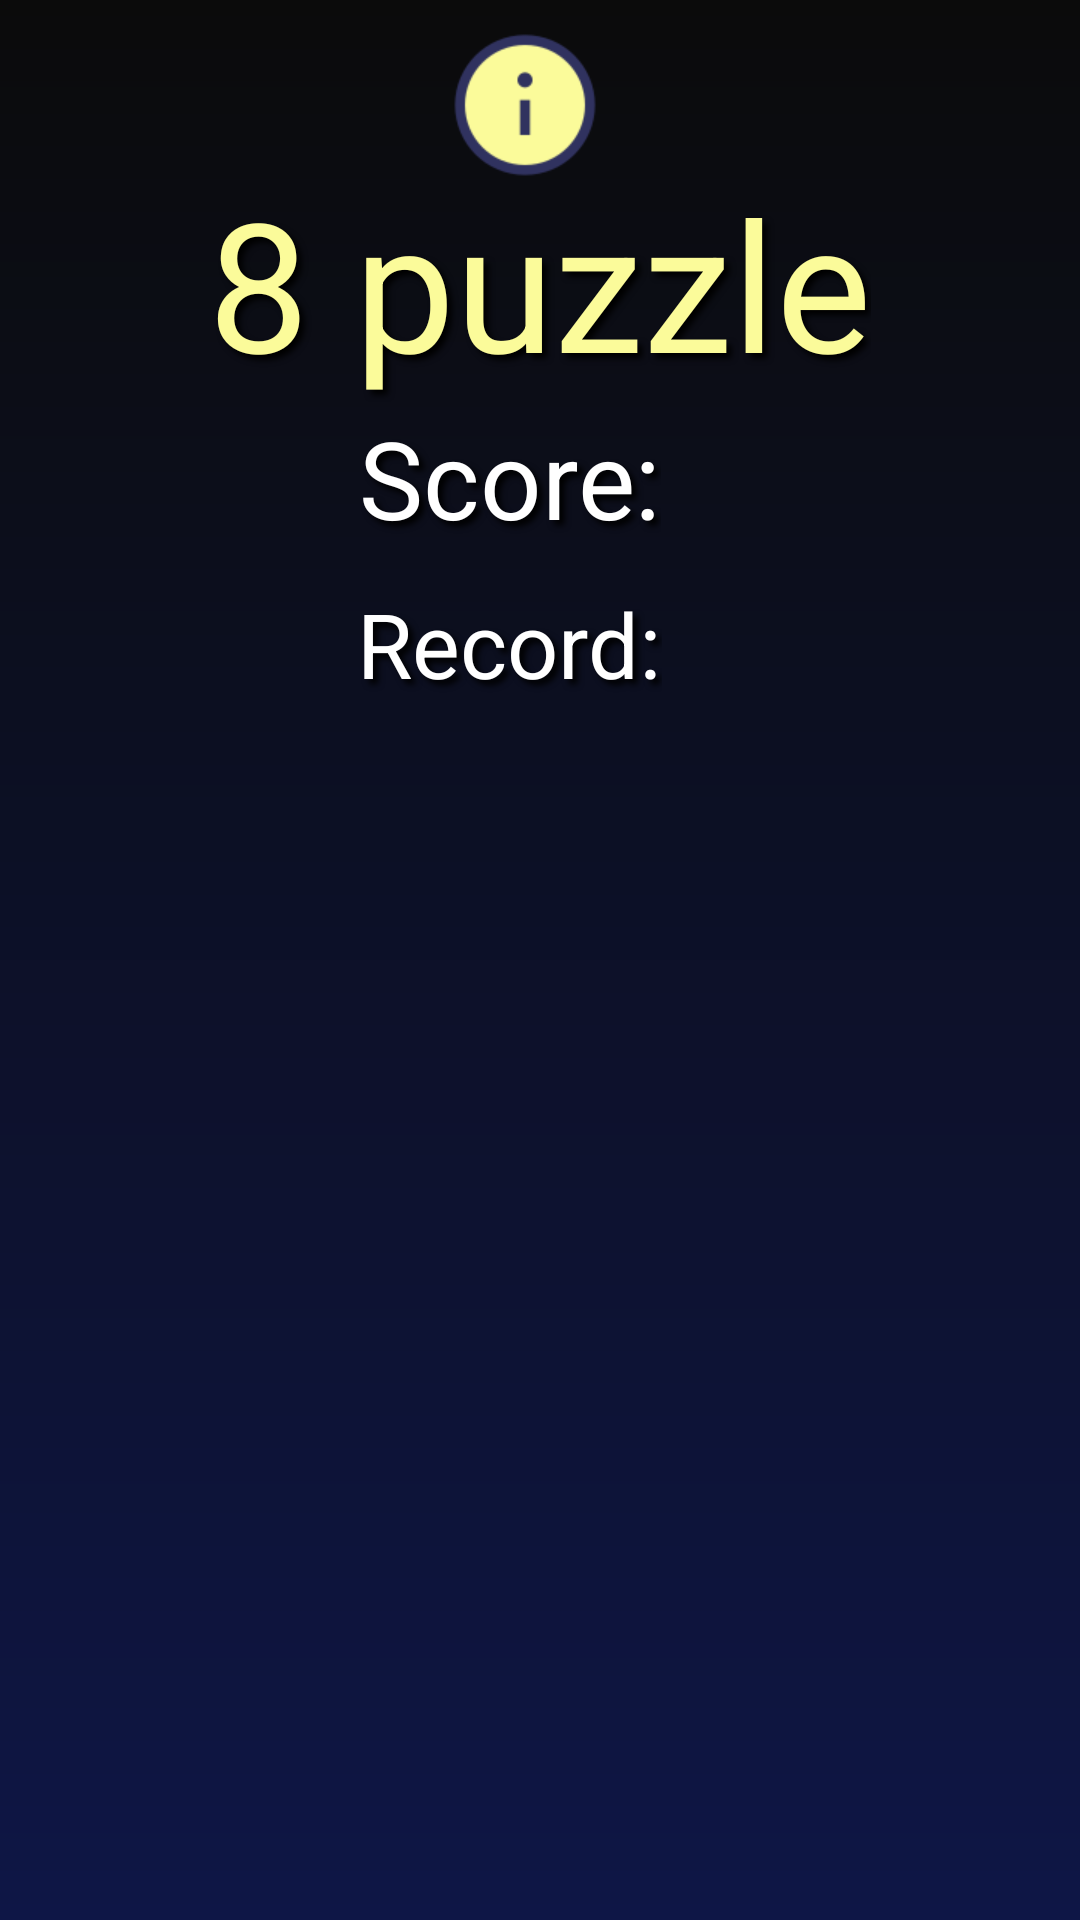

Locate icon controls on the screen. Image size 1080x1920, boxes as (x1, y1, x2, y2).
about: (454, 34, 596, 176)
